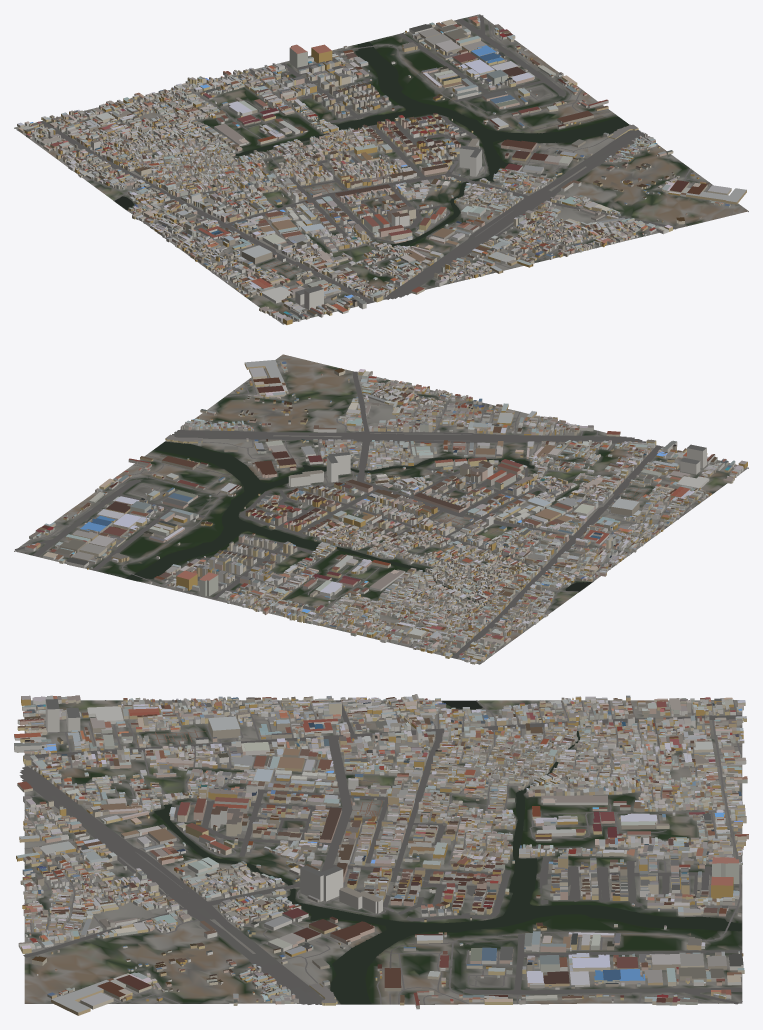
The picture shows the model from 3 angles, top to bottom: view 1: azimuth 30°, elevation 25°; view 2: azimuth 150°, elevation 25°; view 3: azimuth 270°, elevation 25°; orthographic projection. The views are drawn at different scales.
Visible parts, largest first — view 1: buildings, ground, roads, water; view 2: buildings, ground, roads, water; view 3: buildings, ground, roads, water.
Part boxes in pixels (left/top/right/bottom): buildings: left=17, top=16, right=746, bottom=324; ground: left=14, top=14, right=748, bottom=324; roads: left=17, top=14, right=712, bottom=316; water: left=114, top=41, right=629, bottom=246; buildings: left=25, top=360, right=747, bottom=664; ground: left=14, top=354, right=748, bottom=664; roads: left=15, top=368, right=718, bottom=662; water: left=125, top=441, right=591, bottom=605; buildings: left=14, top=694, right=748, bottom=1015; ground: left=24, top=700, right=742, bottom=1004; roads: left=19, top=699, right=742, bottom=1004; water: left=154, top=700, right=741, bottom=1004.
Bounding box in the file's own units: 1467 × 60.63 × 1434.
